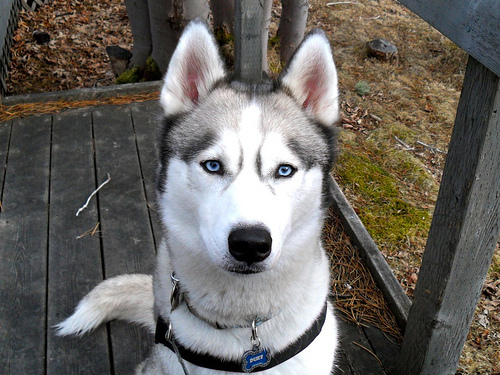dog: (54, 15, 342, 374)
